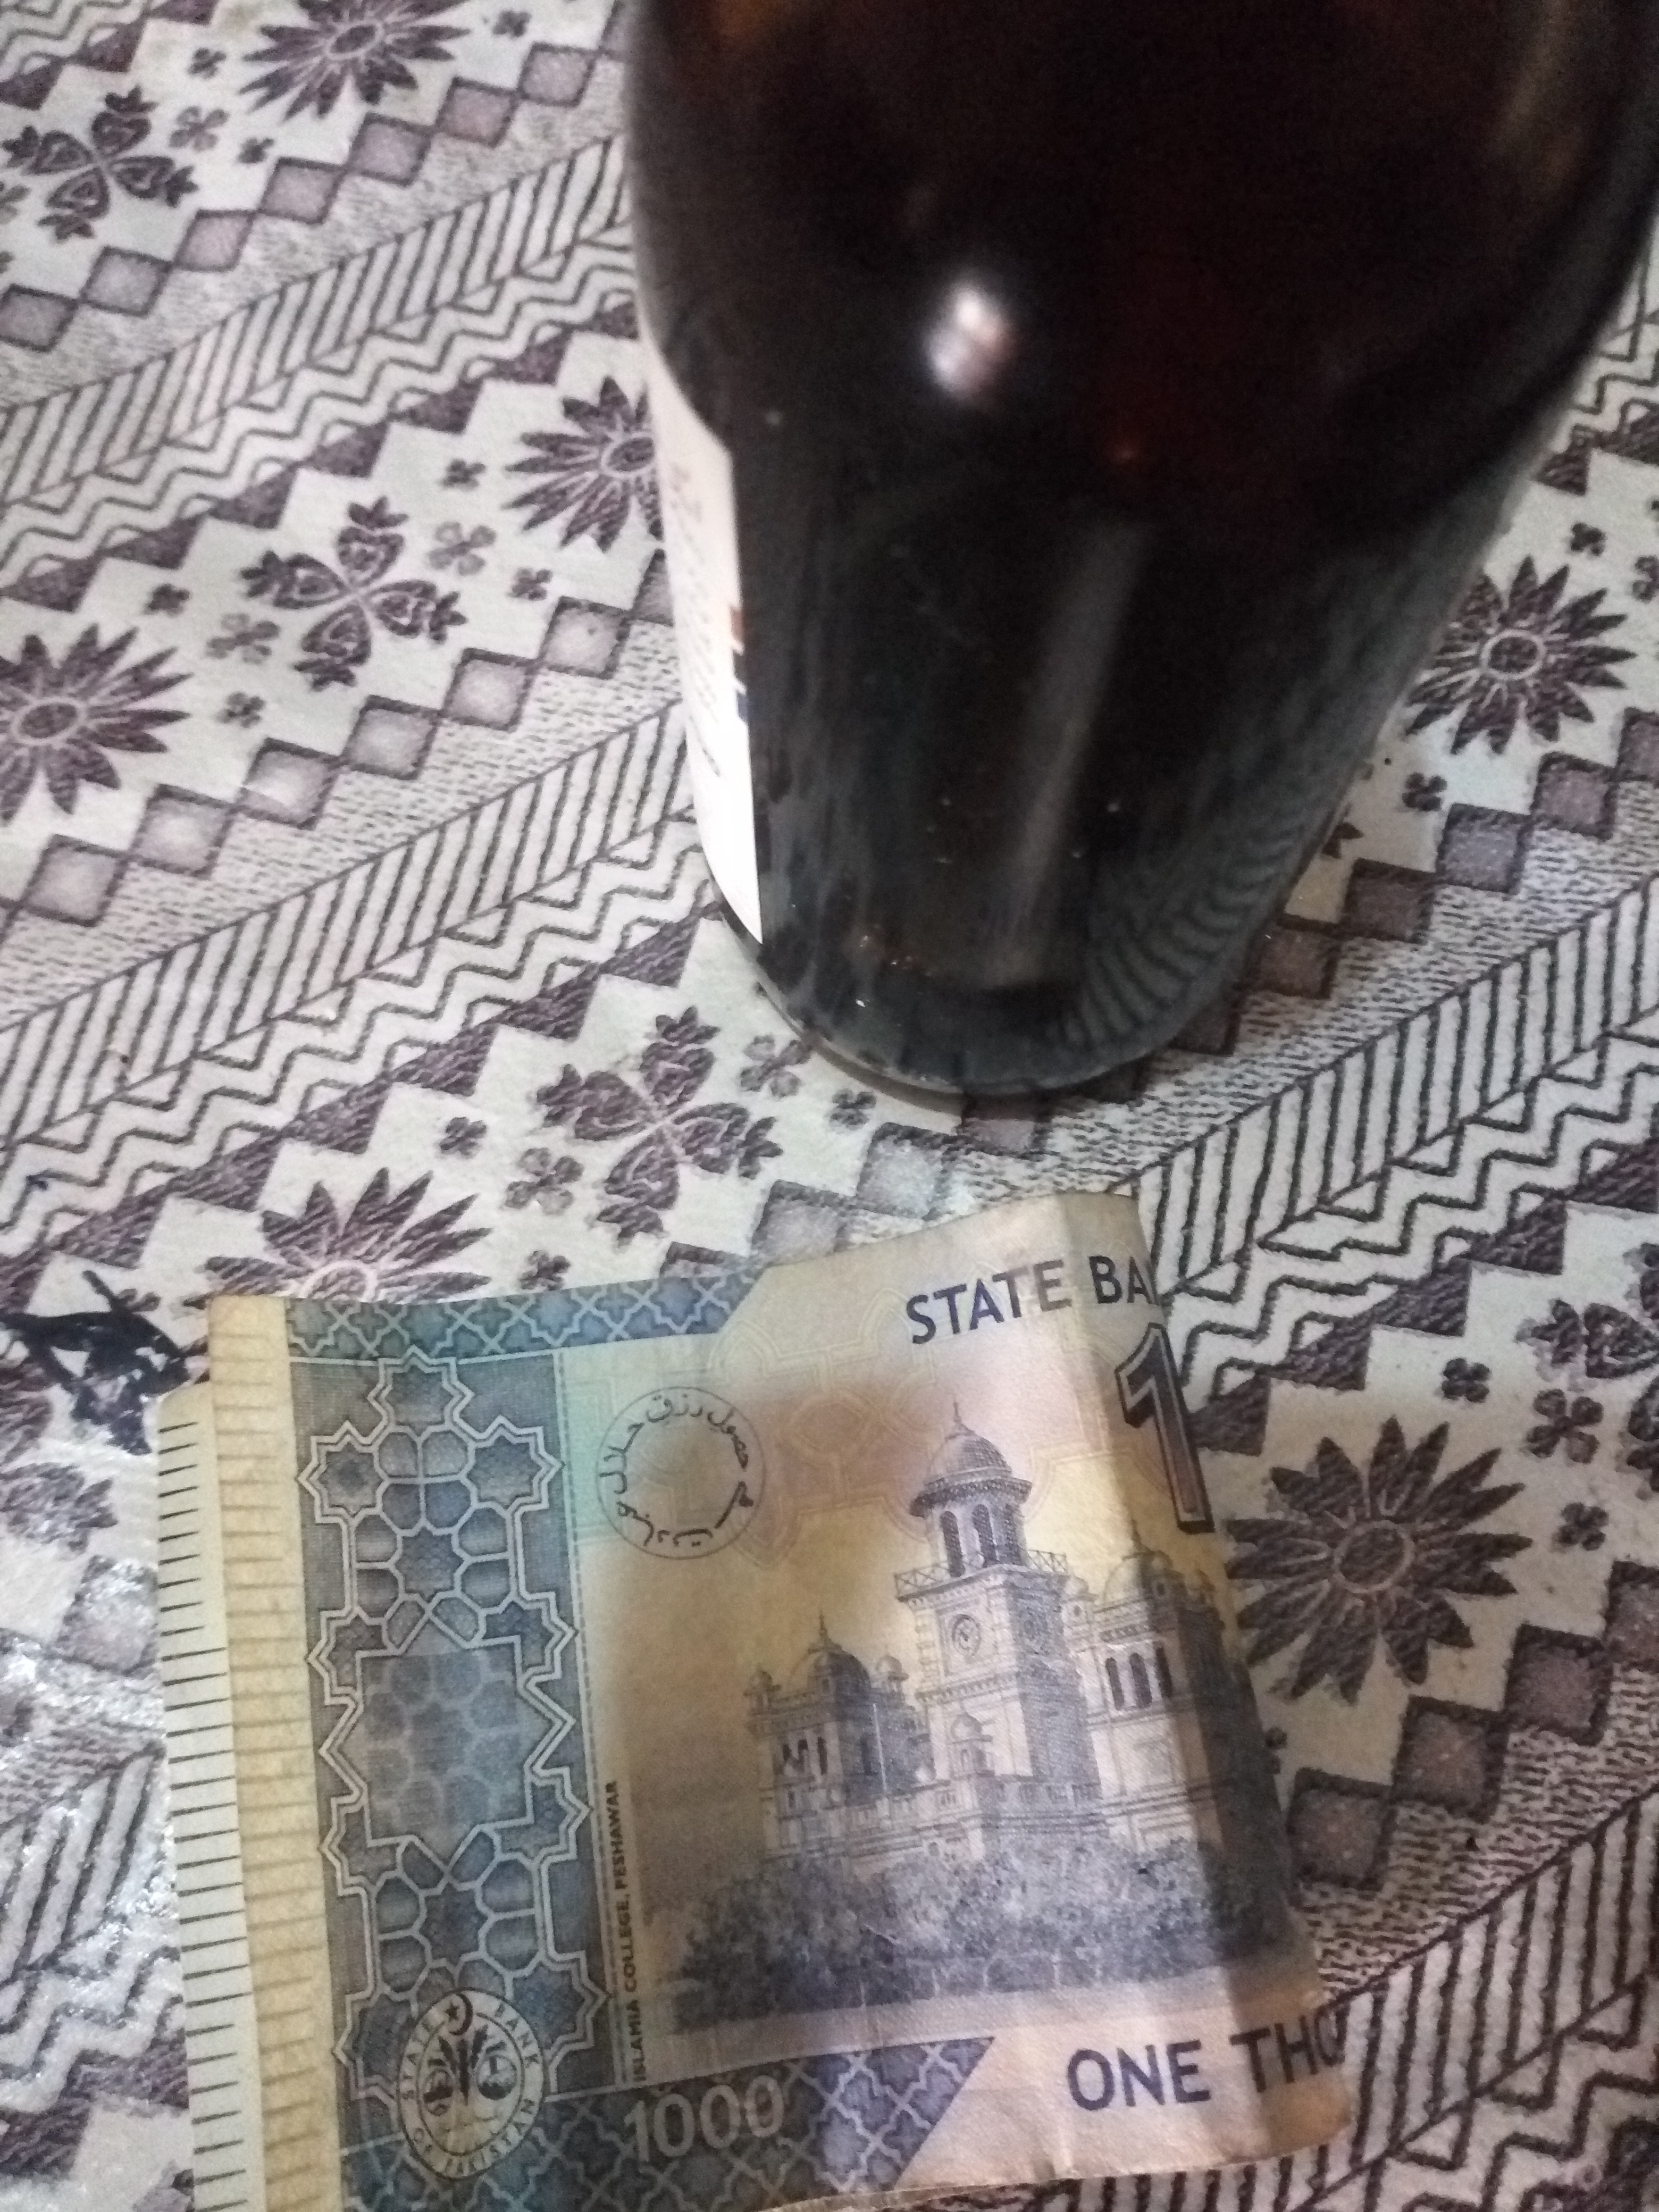1000 rupee: (132, 1186, 1371, 2212)
